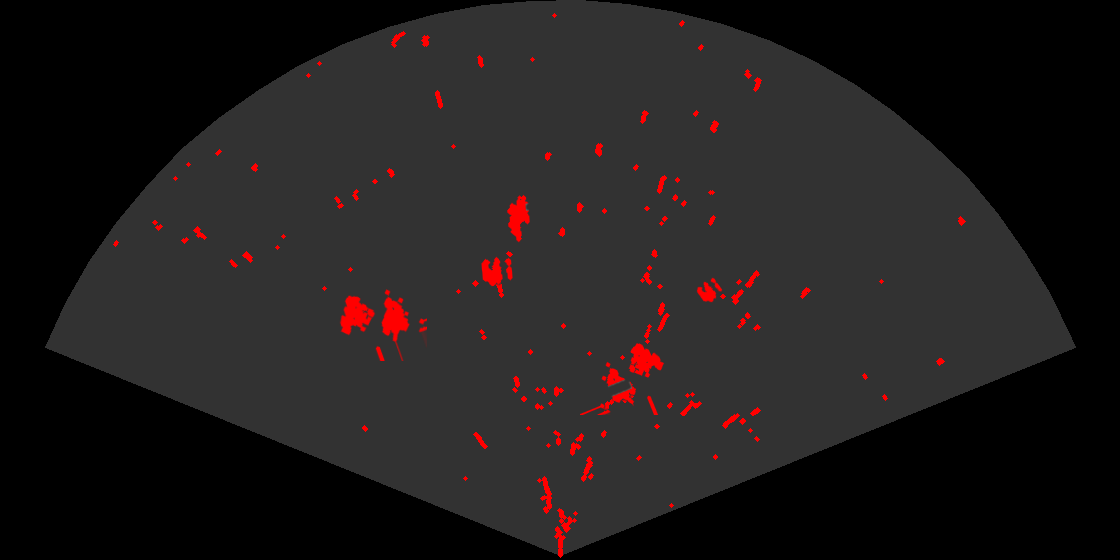AUV: (506, 193, 531, 244)
ball: (480, 255, 514, 288), (695, 276, 724, 304)
cage: (338, 288, 427, 361), (580, 342, 666, 415)
